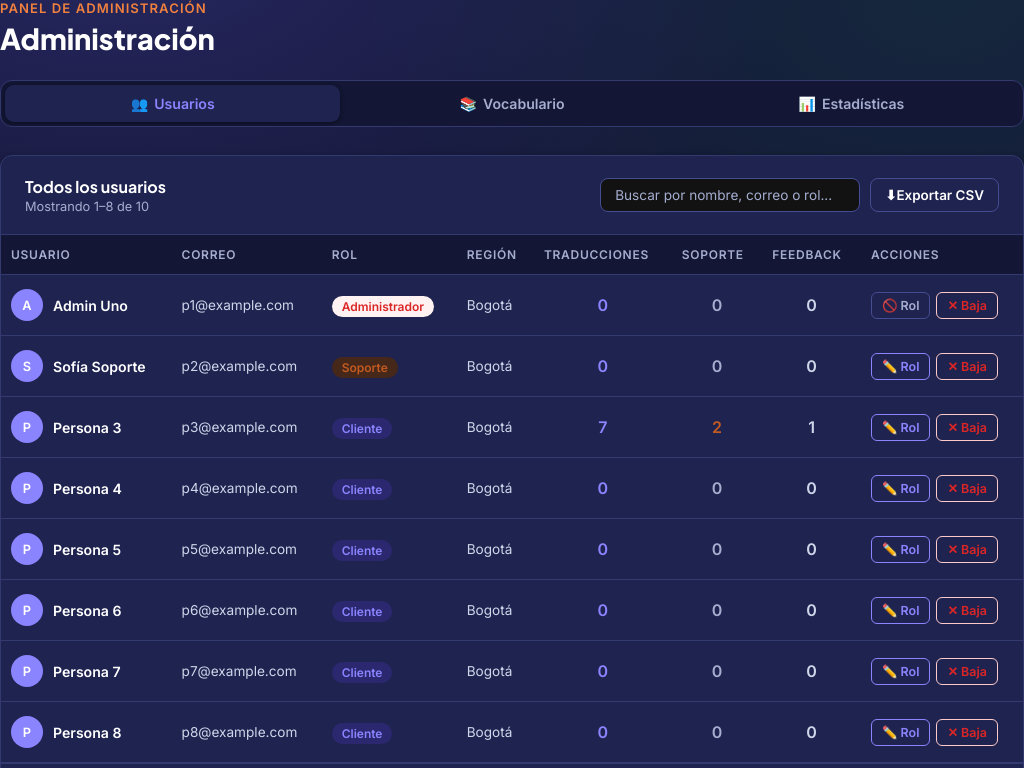
Scenario: Administración · Usuarios › should change the role of another user
Expected: the text "Mostrando 1–8 de 10" is shown, [25,199,166,214]
Click the button titled "Cambiar rol" in the row of "Persona 3" at (901, 427), box [871,414,930,440]
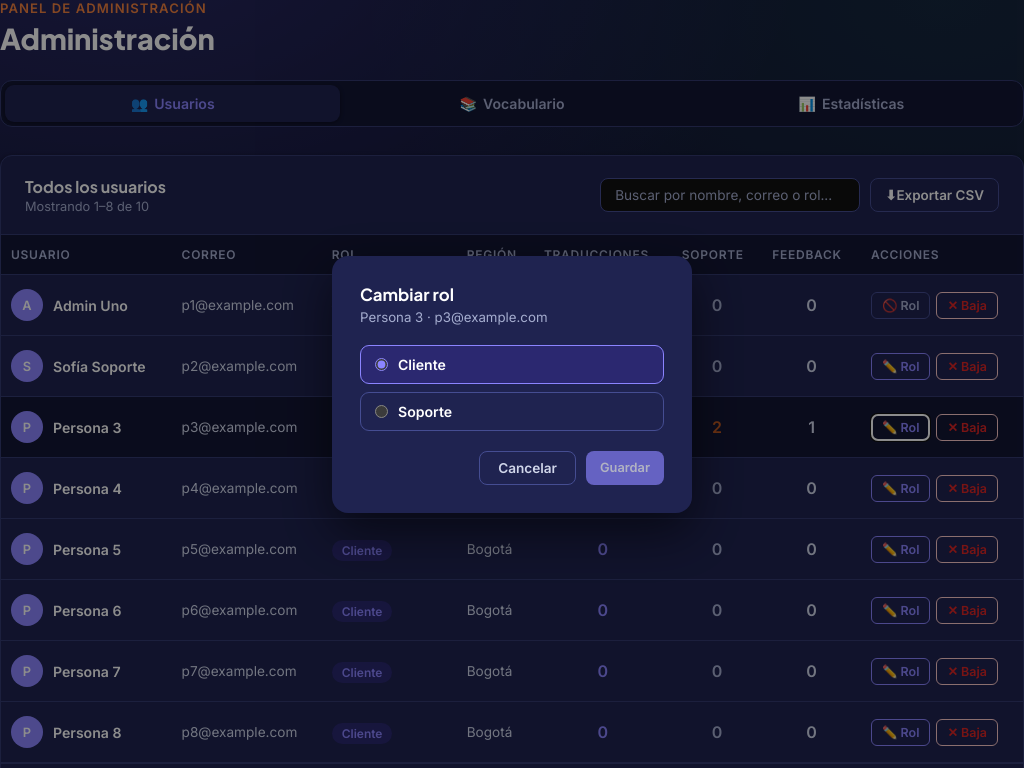
Now the button "Guardar" is disabled, box [586,450,664,484]
Click the radio button labelled "Soporte" at (382, 411), box [375,404,388,418]
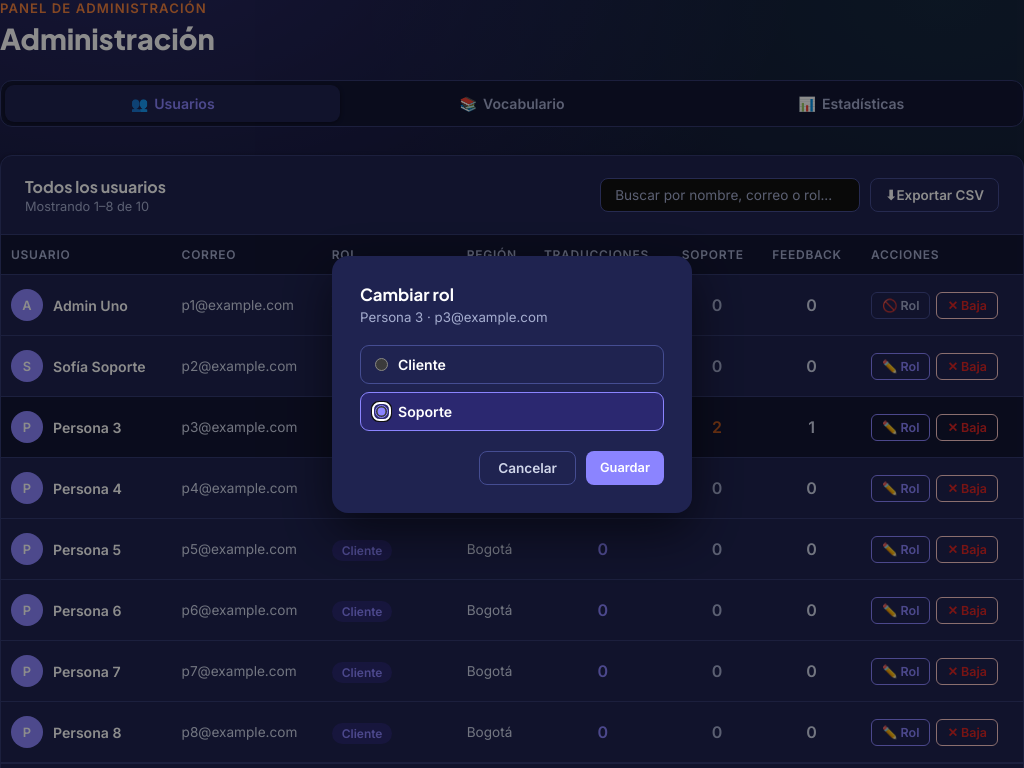
Click the button "Guardar" at (625, 468), box [586,450,664,484]
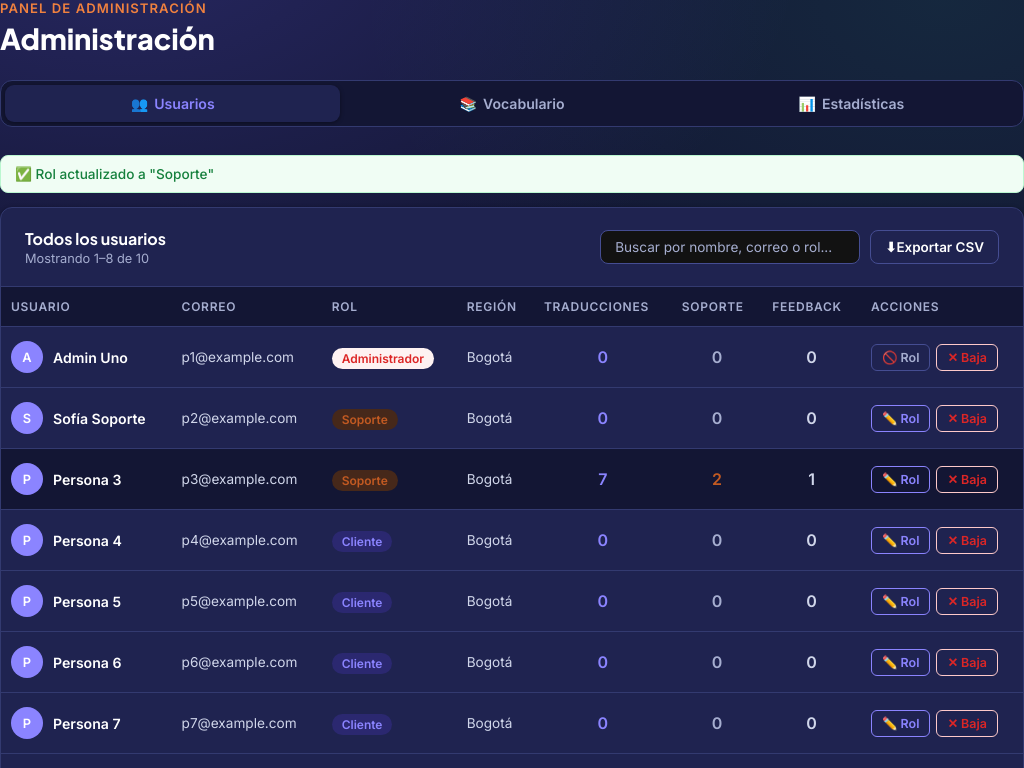
Now the text "✅ Rol actualizado a \"Soporte\"" is shown, box [0,155,1023,193]
Now the text "Soporte" in the row of "Persona 3" is shown, box [342,473,388,488]
